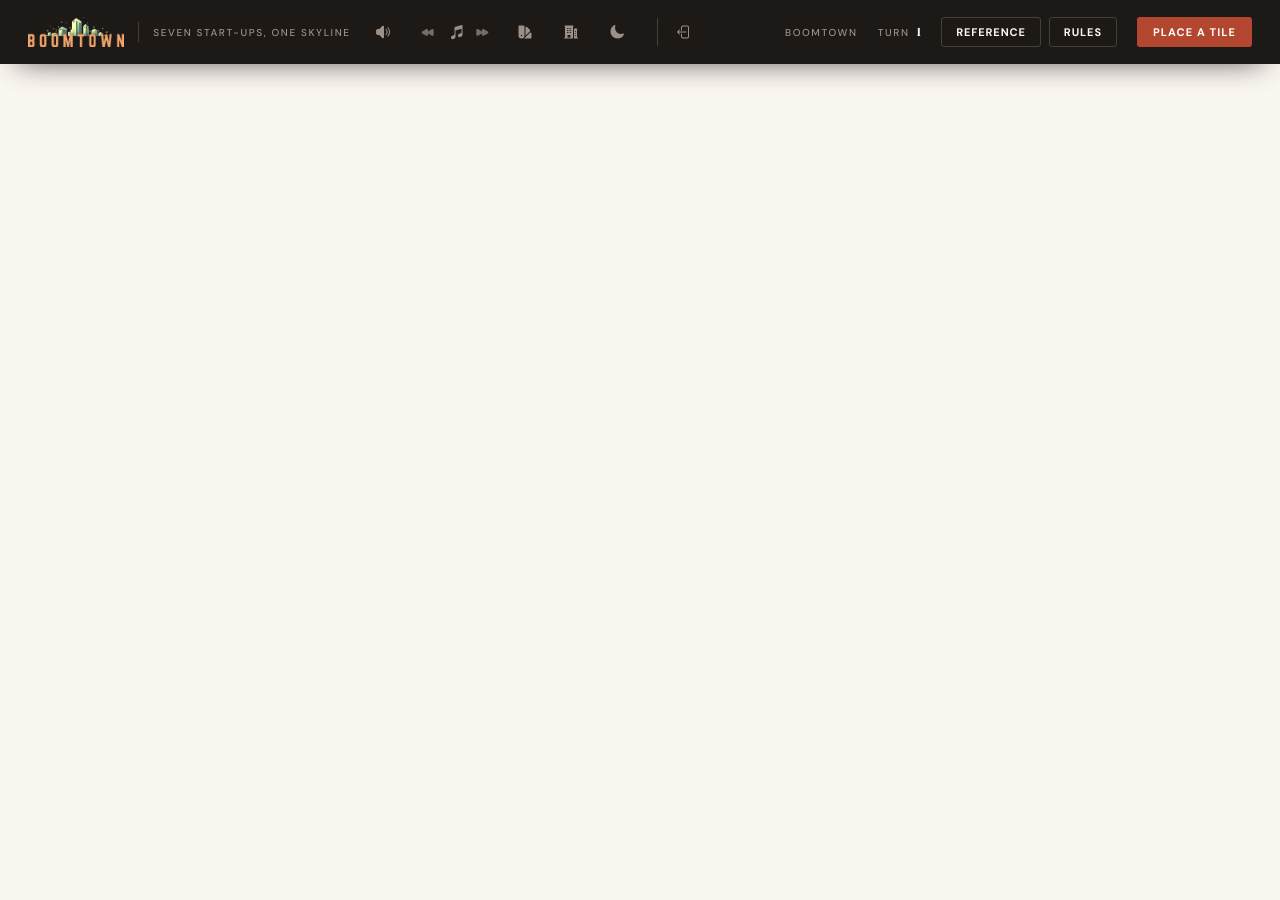
Test case: leaving the game from the header (#73) › asks before leaving, and stays put if you say no
The image size is (1280, 900).
Click the button named "Leave the game".
click(677, 32)  # box top-left (657, 18), bottom-right (698, 46)
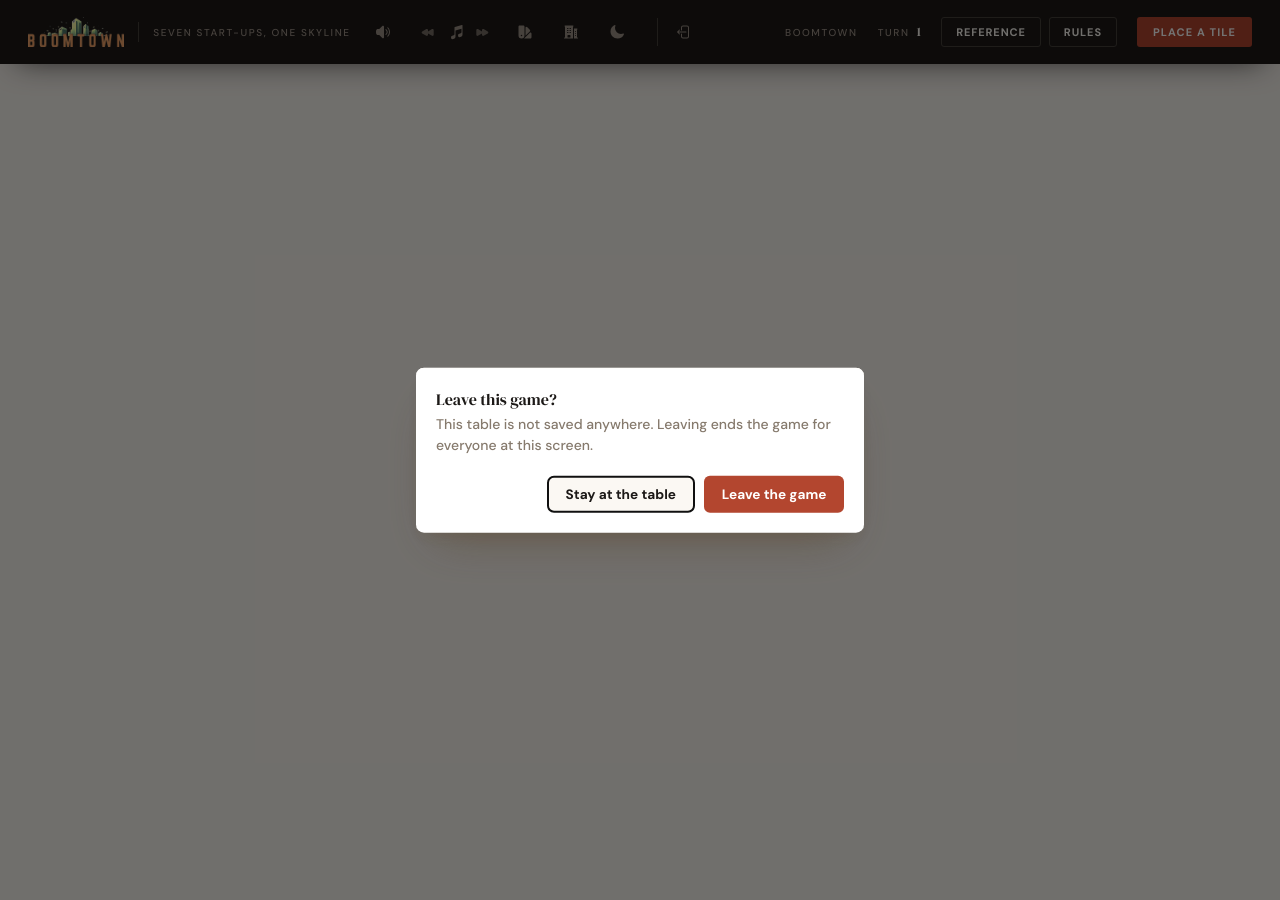
Check: the dialog is shown, box top-left (416, 368), bottom-right (864, 532)
Click the button "Stay at the table".
click(621, 494)  # box top-left (547, 476), bottom-right (694, 512)
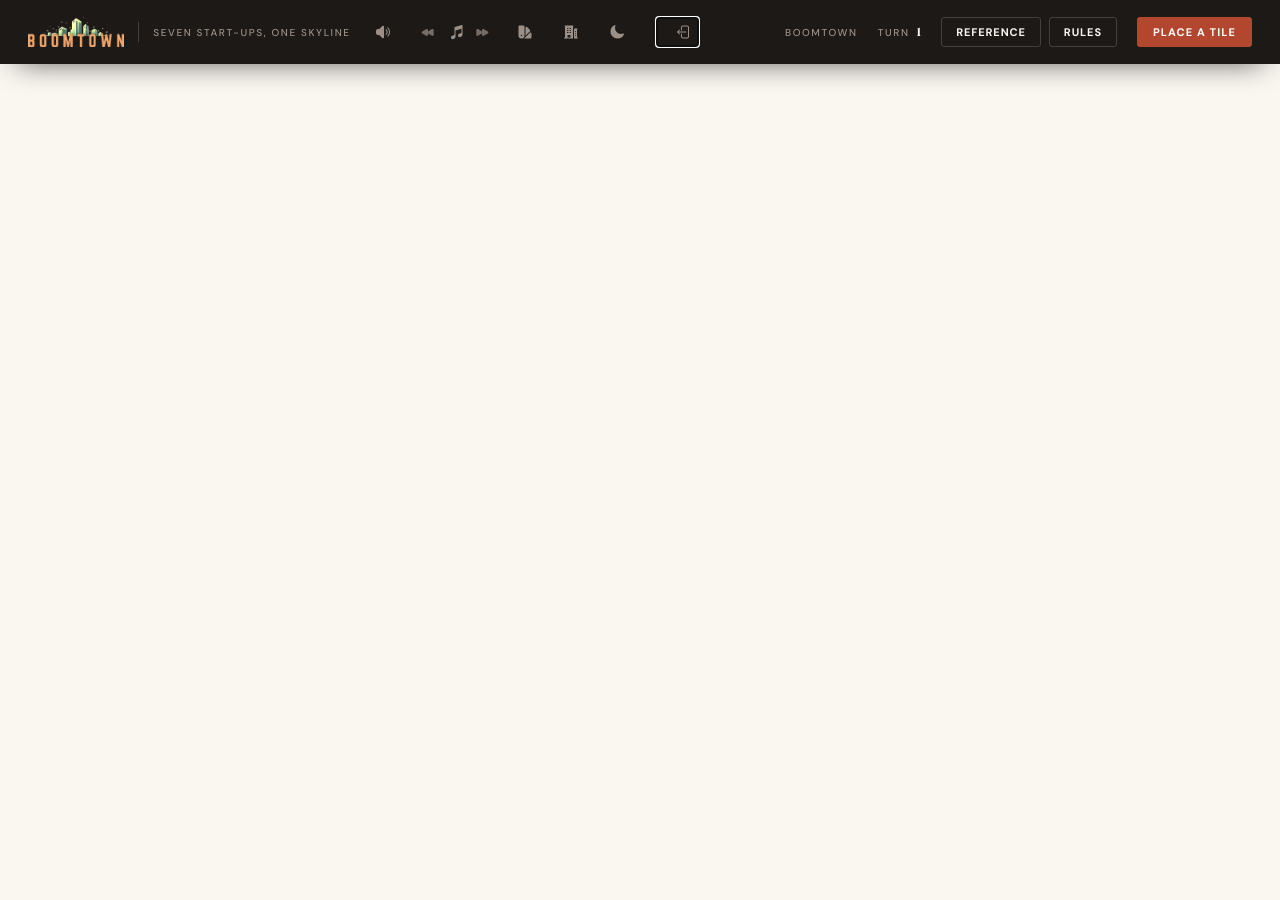
Check: the dialog is gone
